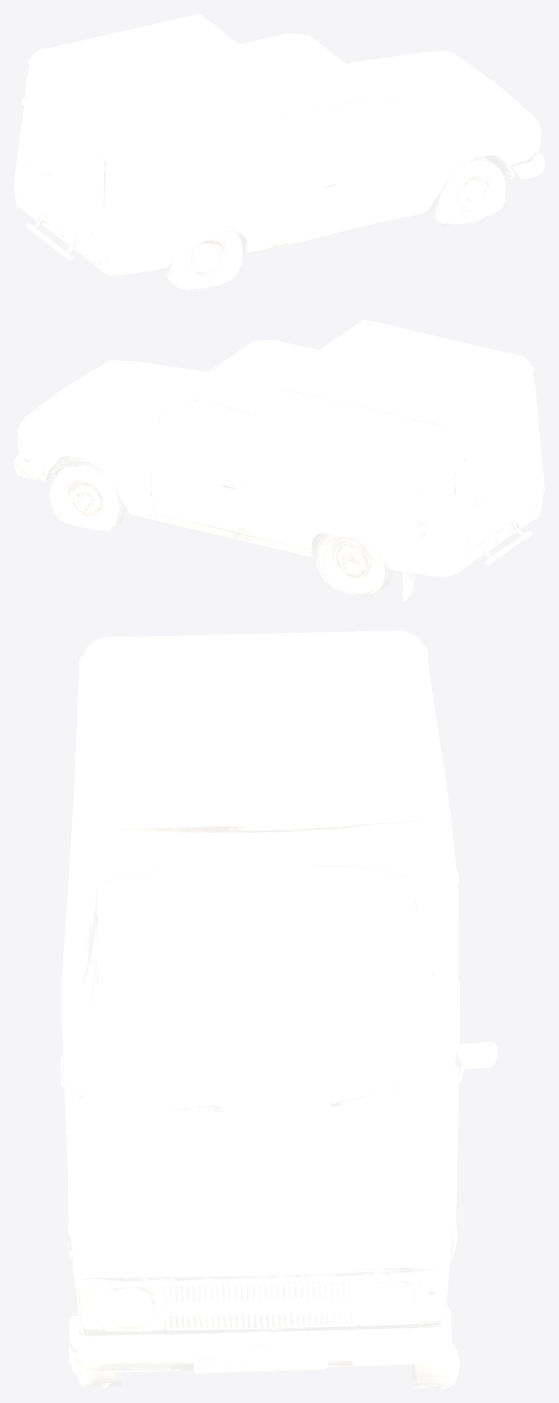
File: Car1156VertsWithoutPBR.glb
3 renders of one model, top to bottom at view 1: azimuth 30°, elevation 25°; view 2: azimuth 150°, elevation 25°; view 3: azimuth 270°, elevation 25°, orthographic. The views are drawn at different scales.
Parts seen in each view (by area): view 1: Pirozhok001_Material #23_0; view 2: Pirozhok001_Material #23_0; view 3: Pirozhok001_Material #23_0.
Boxes of the visible parts, x1,y1,x2,y2 form: Pirozhok001_Material #23_0: (14,14,544,290); Pirozhok001_Material #23_0: (14,319,544,601); Pirozhok001_Material #23_0: (60,630,498,1388).
Size of the model in its own units: 162 by 67.27 by 67.59.
2 materials, 1 textured.
